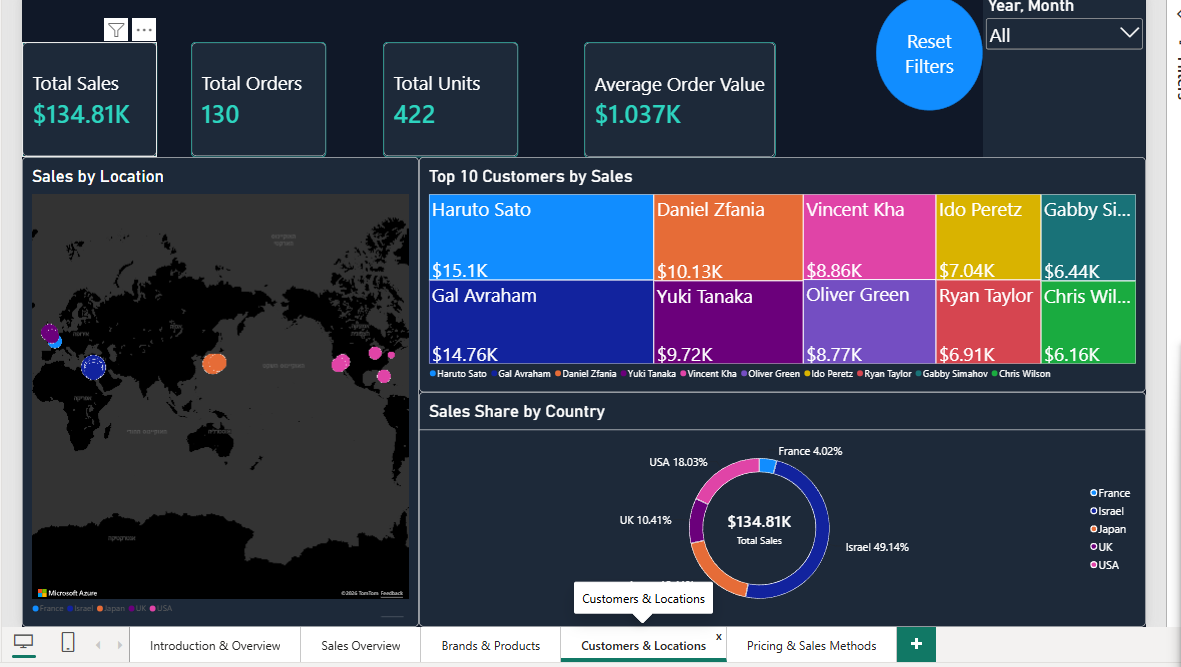

This screenshot's page, from the dashboard's own definition file:
{"tool":"powerbi","page":{"name":"Customers & Locations","canvas":[1920,1080],"ordinal":3},"visuals":[{"type":"cardVisual","fields":{"Data":["Orders.Total Sales"]},"box":[0,81,231.3,196.6],"z":0},{"type":"cardVisual","fields":{"Data":["Orders.Total Orders"]},"box":[289.2,81,231.3,196.6],"z":1000},{"type":"cardVisual","fields":{"Data":["Orders.Total Units"]},"box":[617.5,80,231.3,196.6],"z":2000},{"type":"slicer","fields":{"Values":["DimDate.Year","DimDate.Month"]},"box":[1642.4,0,277.6,277.6],"z":3000},{"type":"cardVisual","fields":{"Data":["Orders.Average Order Value"]},"box":[960,80,327.5,197.5],"z":4000},{"type":"shape","box":[1460,0,182.5,197.5],"z":5000},{"type":"azureMap","title":"Sales by Location","fields":{"Category":["Customers.City"],"Series":["Customers.Country"],"Size":["Orders.Total Sales"]},"box":[0,277.4,677.8,802.8],"z":6000},{"type":"treemap","title":"Top 10 Customers by Sales","fields":{"Group":["Customers.CustomerName"],"Values":["Orders.Total Sales"]},"box":[677.8,277.4,1242.2,402.4],"z":7000},{"type":"donutChart","title":"Sales Share by Country","fields":{"Category":["Customers.Country"],"Y":["Orders.Total Sales"]},"box":[678,679,1242,401],"z":8000}]}

Visuals, with their boxes on the page's 1920x1080 design canvas (x1, y1, x2, y2). These are canvas units, not pixel positions in the 1181x667 screenshot, which may show the page scaled, cropped or inside an application window:
cardVisual - Orders.Total Sales: [x1=0, y1=81, x2=231, y2=278]
cardVisual - Orders.Total Orders: [x1=289, y1=81, x2=520, y2=278]
cardVisual - Orders.Total Units: [x1=618, y1=80, x2=849, y2=277]
slicer - DimDate.Year x DimDate.Month: [x1=1642, y1=0, x2=1920, y2=278]
cardVisual - Orders.Average Order Value: [x1=960, y1=80, x2=1288, y2=278]
shape: [x1=1460, y1=0, x2=1642, y2=198]
"Sales by Location" azureMap: [x1=0, y1=277, x2=678, y2=1080]
"Top 10 Customers by Sales" treemap: [x1=678, y1=277, x2=1920, y2=680]
"Sales Share by Country" donutChart: [x1=678, y1=679, x2=1920, y2=1080]
